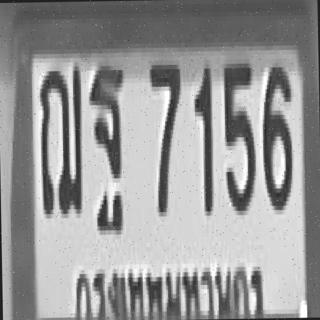A12: (38, 62, 81, 214)
A16: (88, 64, 124, 211)
N01: (192, 62, 212, 209)
N05: (222, 59, 254, 211)
N06: (260, 63, 290, 206)
N07: (148, 60, 180, 212)
